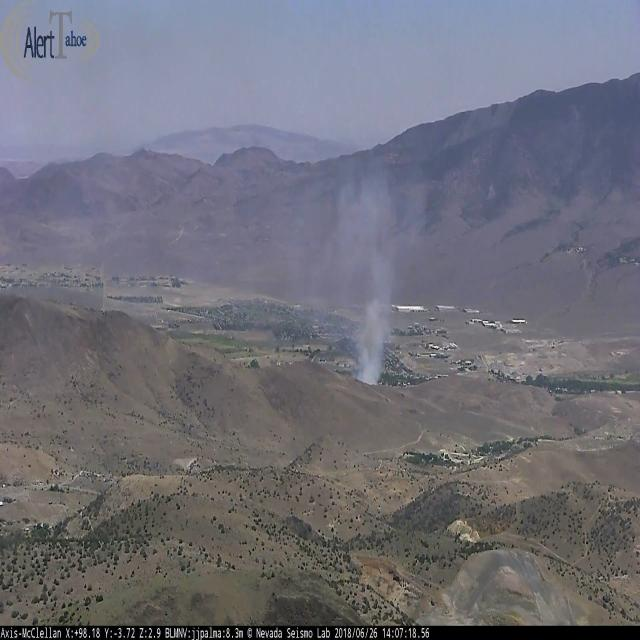smoke: (348, 169, 397, 390)
